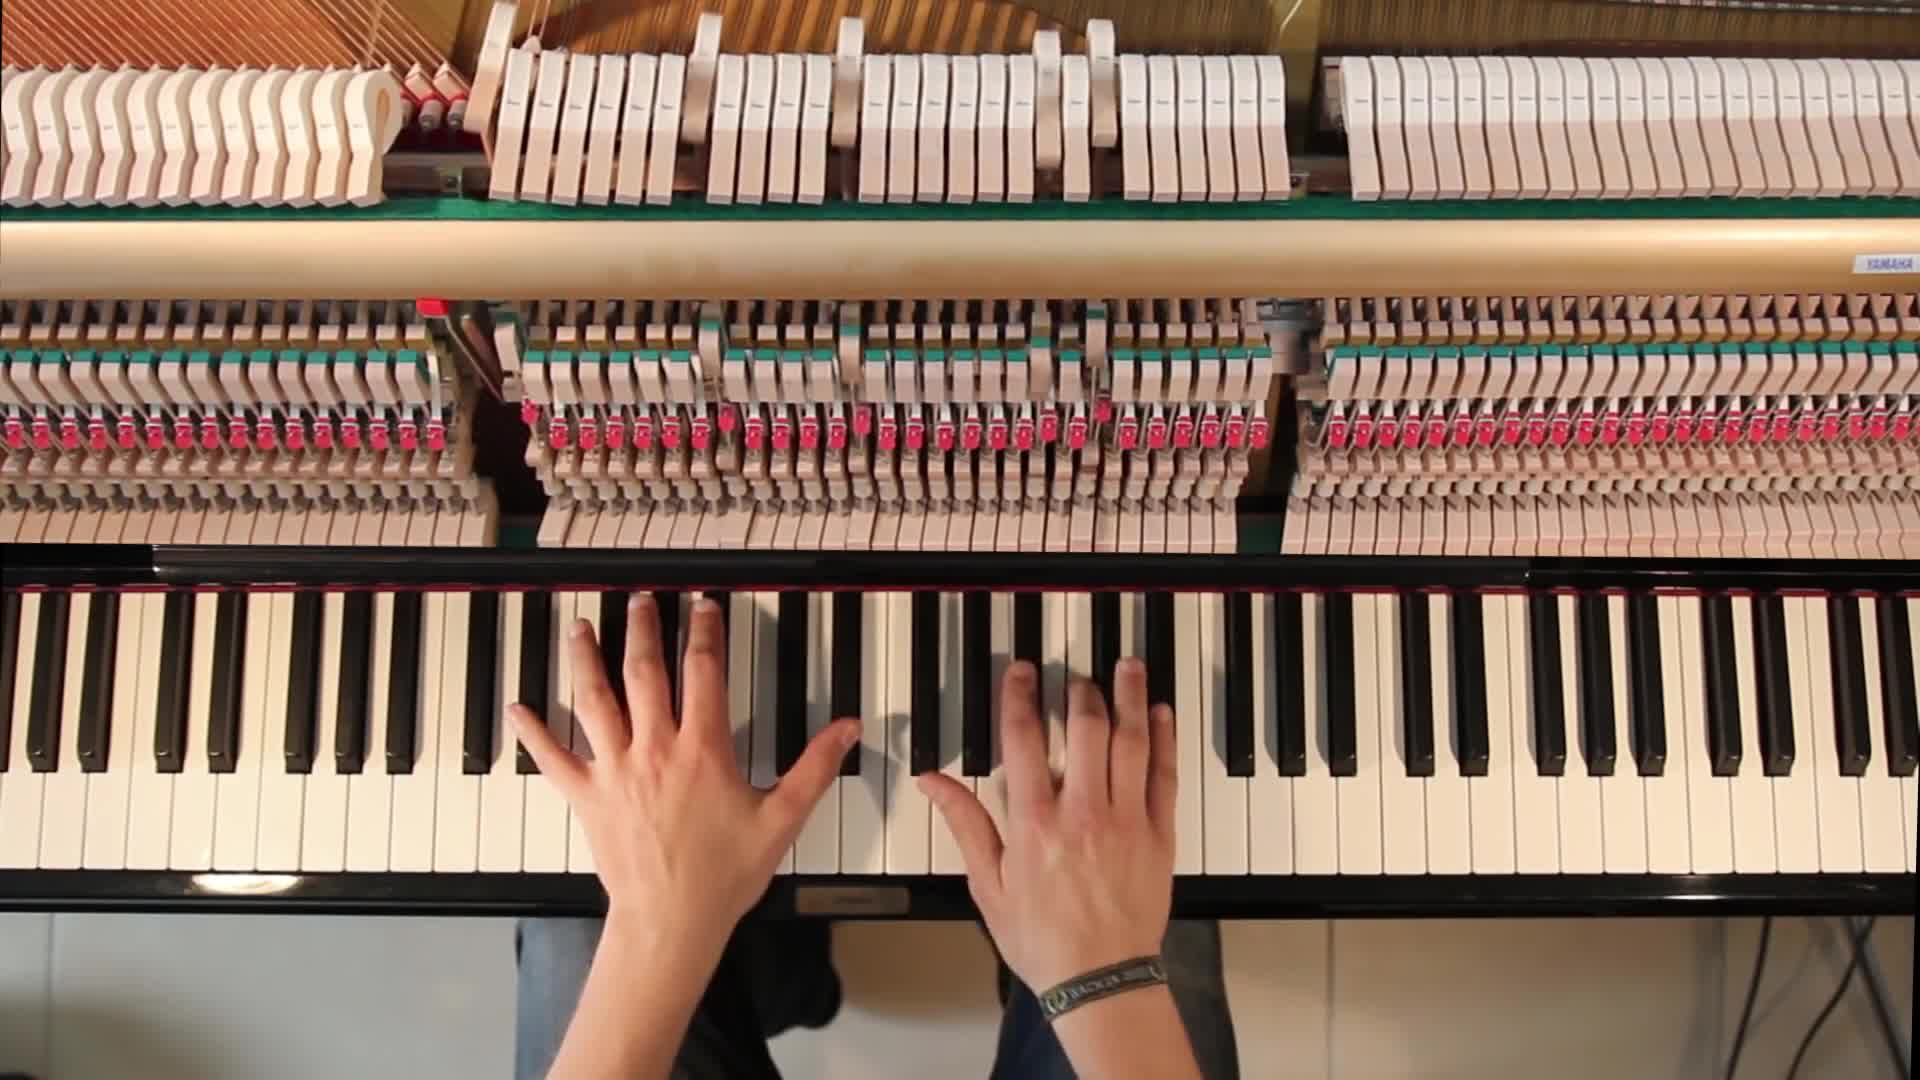left: (506, 591, 866, 926)
right: (918, 653, 1178, 942)
